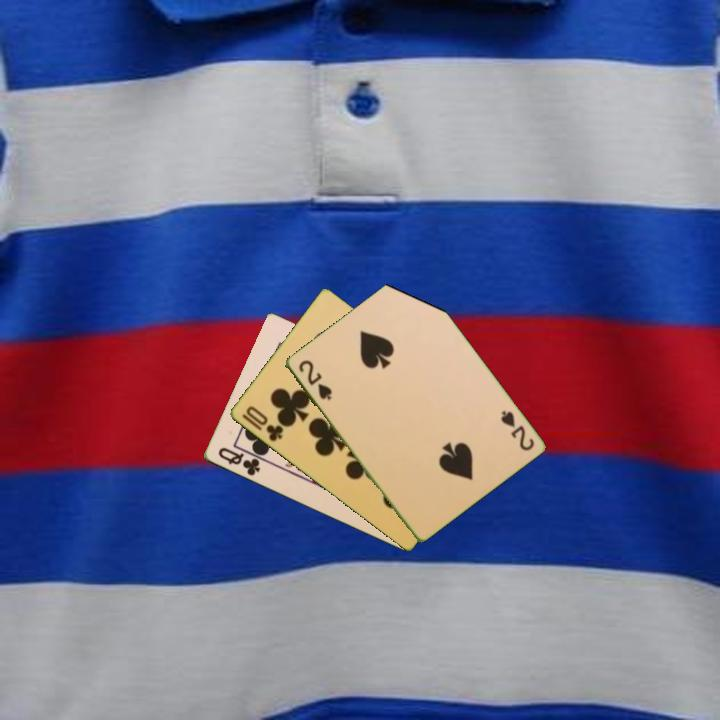10c: (238, 403, 286, 445)
2s: (294, 356, 335, 403), (497, 407, 537, 454)
Qc: (214, 444, 263, 479)
